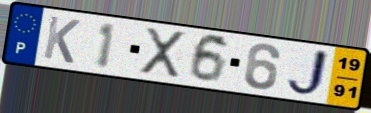1: (96, 22, 118, 70)
6: (185, 33, 233, 87), (242, 42, 282, 91)
J: (284, 47, 332, 99)
K: (41, 14, 83, 66)
X: (139, 26, 188, 80)
